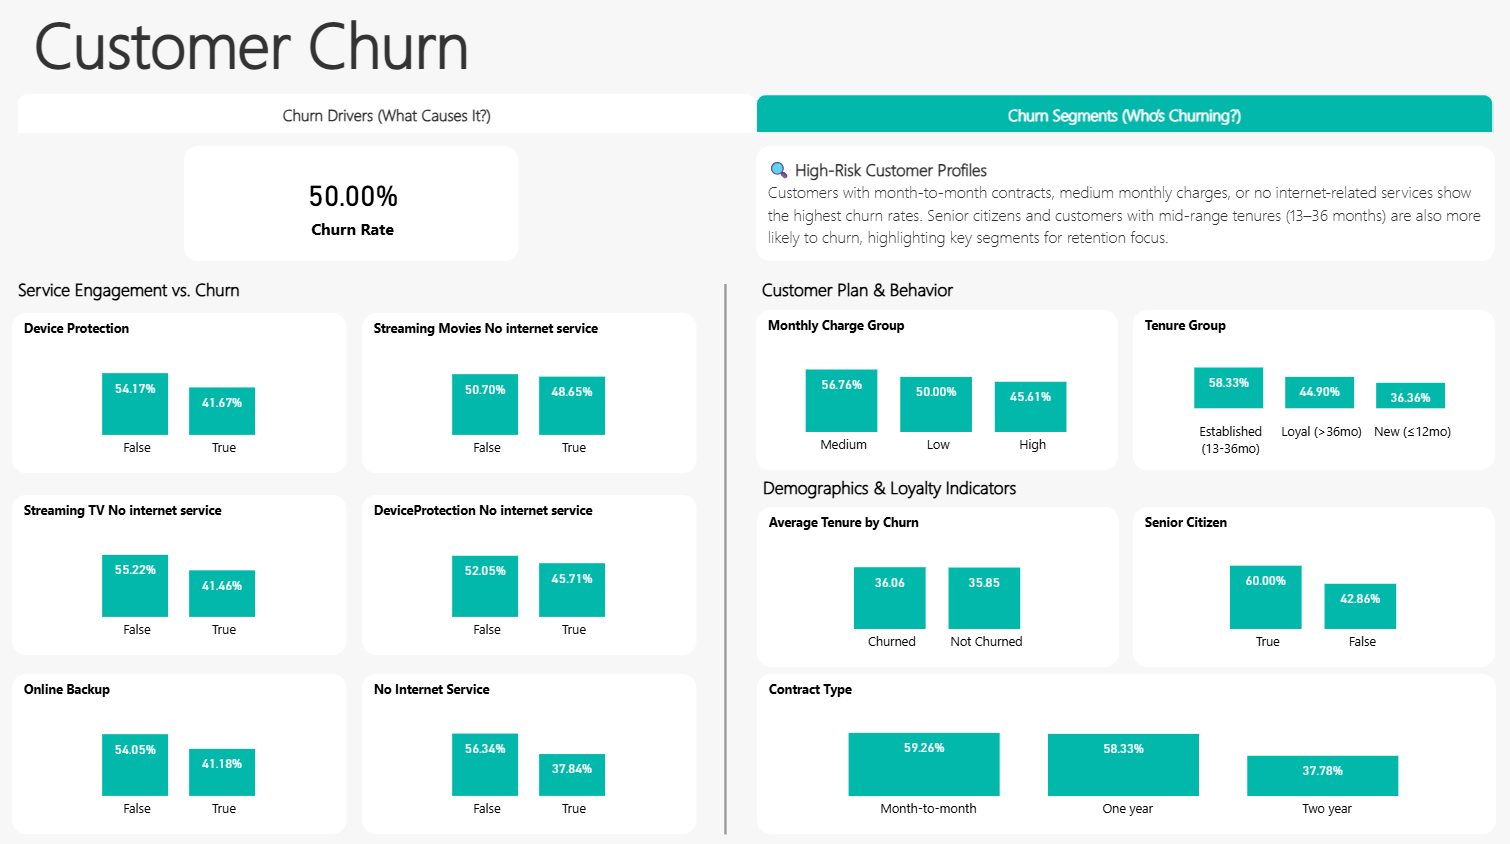

This screenshot's page, from the dashboard's own definition file:
{"tool":"powerbi","page":{"name":"Churn Segments (Who’s Churning?)","canvas":[1280,720],"ordinal":1},"visuals":[{"type":"clusteredColumnChart","title":"Streaming Movies No internet service","fields":{"Y":["customer_churn_cleaned.Churn Rate"],"Category":["customer_churn_cleaned.StreamingMovies_No internet service"]},"box":[307.7,269.8,282.4,134.9],"z":0},{"type":"clusteredColumnChart","title":"Monthly Charge Group","fields":{"Category":["customer_churn_cleaned.MonthlyChargeGroup"],"Y":["customer_churn_cleaned.Churn Rate"]},"box":[639.9,267.3,305.2,134.9],"z":1000},{"type":"clusteredColumnChart","title":"Tenure Group","fields":{"Category":["customer_churn_cleaned.TenureGroup"],"Y":["customer_churn_cleaned.Churn Rate"]},"box":[957.8,267.3,305.2,134.9],"z":2000},{"type":"clusteredColumnChart","title":"Streaming TV No internet service","fields":{"Category":["customer_churn_cleaned.StreamingTV_No internet service"],"Y":["customer_churn_cleaned.Churn Rate"]},"box":[12.6,423.2,282.4,134.9],"z":3000},{"type":"clusteredColumnChart","title":"Device Protection","fields":{"Category":["customer_churn_cleaned.DeviceProtection_Yes"],"Y":["customer_churn_cleaned.Churn Rate"]},"box":[12.6,269.8,282.4,134.9],"z":4000},{"type":"clusteredColumnChart","title":"DeviceProtection No internet service","fields":{"Category":["customer_churn_cleaned.DeviceProtection_No internet service"],"Y":["customer_churn_cleaned.Churn Rate"]},"box":[307.7,423.2,282.4,134.9],"z":5000},{"type":"card","fields":{"Values":["customer_churn_cleaned.Churn Rate"]},"box":[157.7,129,282.4,97],"z":6000},{"type":"clusteredColumnChart","title":"Online Backup","fields":{"Category":["customer_churn_cleaned.OnlineBackup_Yes"],"Y":["customer_churn_cleaned.Churn Rate"]},"box":[12.6,574.1,282.4,134.9],"z":7000},{"type":"clusteredColumnChart","title":"No Internet Service","fields":{"Category":["customer_churn_cleaned.InternetService_No"],"Y":["customer_churn_cleaned.Churn Rate"]},"box":[307.7,574.1,282.4,134.9],"z":8000},{"type":"clusteredColumnChart","title":"Contract Type","fields":{"Y":["customer_churn_cleaned.Churn Rate"],"Category":["customer_churn_cleaned.Contract_Type"]},"box":[640.7,574.1,623,134.9],"z":9000},{"type":"pageNavigator","box":[17.5,85.3,1245.1,33.9],"z":10000},{"type":"textbox","box":[26.2,0,430.5,85.3],"z":11000},{"type":"clusteredColumnChart","title":"Average Tenure by Churn","fields":{"Category":["customer_churn_cleaned.Churn_Label"],"Y":["customer_churn_cleaned.Avg Ternure"]},"box":[640.7,433.3,305.2,134.9],"z":11001},{"type":"clusteredColumnChart","title":"Senior Citizen","fields":{"Category":["customer_churn_cleaned.SeniorCitizen"],"Y":["customer_churn_cleaned.Churn Rate"]},"box":[957.8,433.3,305.2,134.9],"z":11002},{"type":"textbox","box":[639.9,129,623,97],"z":11003},{"type":"shape","box":[603.7,245.3,21.1,463.7],"z":11004},{"type":"textbox","box":[12.6,234.4,209.9,35.4],"z":11005},{"type":"textbox","box":[639.9,234.4,209.9,35.4],"z":11006},{"type":"textbox","box":[640.7,401.3,259.7,33.7],"z":11007}]}

Visuals, with their boxes in screenshot pixels (x1, y1, x2, y2), scaled from the page's 1280x720 canvas onto the 1510x844 screenshot:
"Streaming Movies No internet service" clusteredColumnChart: region(363, 316, 696, 474)
"Monthly Charge Group" clusteredColumnChart: region(755, 313, 1115, 471)
"Tenure Group" clusteredColumnChart: region(1130, 313, 1490, 471)
"Streaming TV No internet service" clusteredColumnChart: region(15, 496, 348, 654)
"Device Protection" clusteredColumnChart: region(15, 316, 348, 474)
"DeviceProtection No internet service" clusteredColumnChart: region(363, 496, 696, 654)
card - customer_churn_cleaned.Churn Rate: region(186, 151, 519, 265)
"Online Backup" clusteredColumnChart: region(15, 673, 348, 831)
"No Internet Service" clusteredColumnChart: region(363, 673, 696, 831)
"Contract Type" clusteredColumnChart: region(756, 673, 1491, 831)
pageNavigator: region(21, 100, 1489, 140)
textbox: region(31, 0, 539, 100)
"Average Tenure by Churn" clusteredColumnChart: region(756, 508, 1116, 666)
"Senior Citizen" clusteredColumnChart: region(1130, 508, 1490, 666)
textbox: region(755, 151, 1490, 265)
shape: region(712, 288, 737, 831)
textbox: region(15, 275, 262, 316)
textbox: region(755, 275, 1002, 316)
textbox: region(756, 470, 1062, 510)
